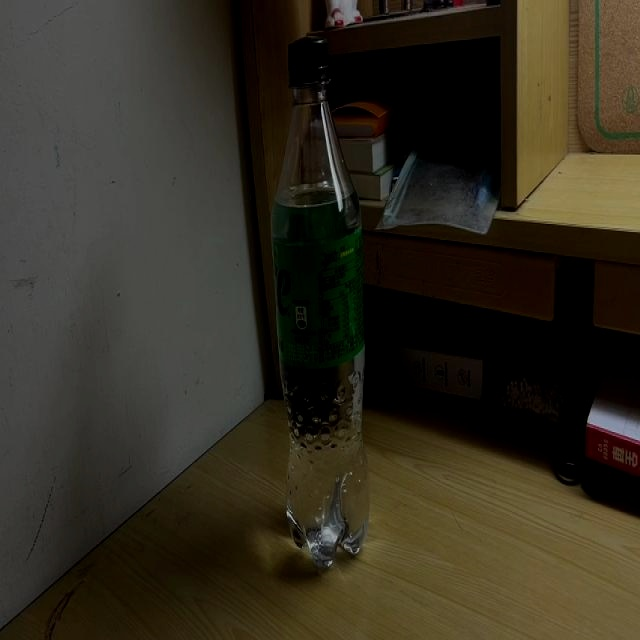Sprite: (272, 36, 366, 568)
